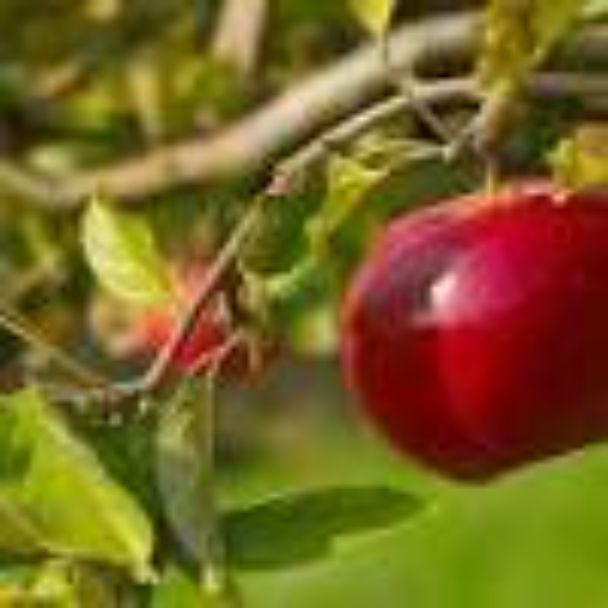HEALTHY: (330, 182, 608, 493)
